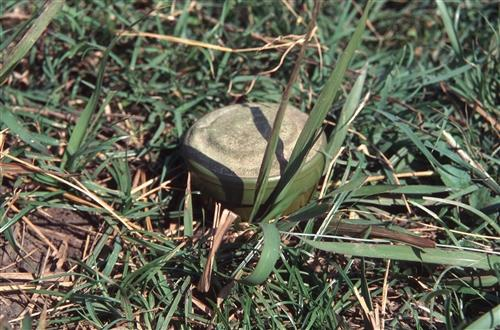pmn: (178, 99, 329, 225)
